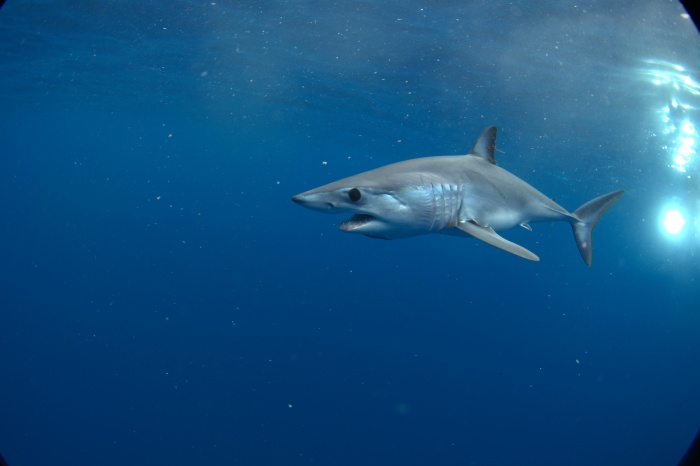Mako: (275, 115, 633, 283)
